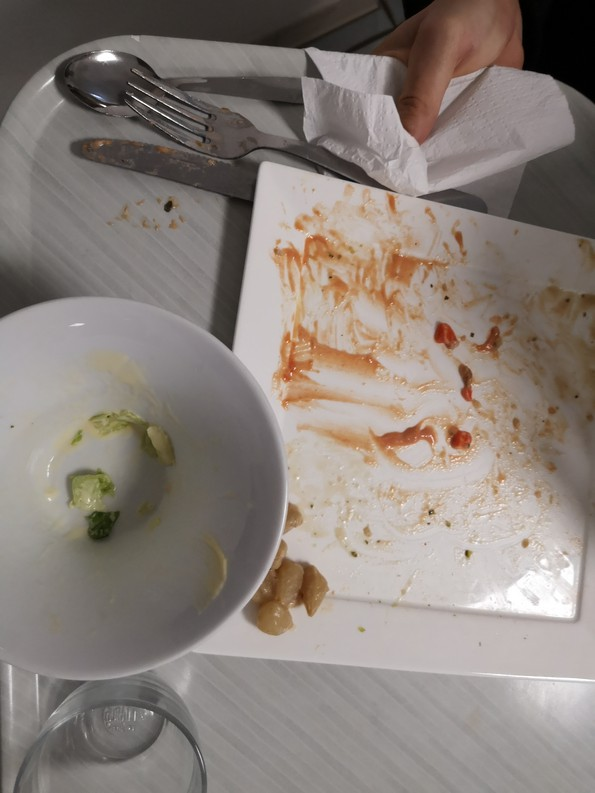cup: (33, 668, 200, 793)
cutlery: (37, 40, 355, 223)
orga: (239, 518, 339, 638)
trash: (287, 34, 590, 222)
